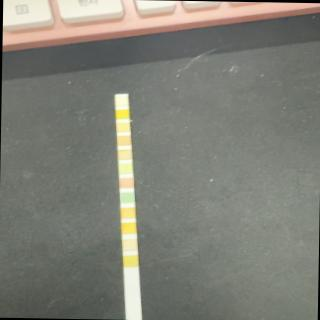mark: (120, 207, 136, 219), (122, 238, 137, 250), (121, 222, 136, 234), (118, 177, 134, 188), (123, 255, 137, 266), (120, 192, 134, 203), (117, 150, 131, 160), (117, 135, 131, 145), (119, 164, 132, 174), (116, 122, 129, 132), (115, 109, 128, 119), (114, 96, 128, 105)
